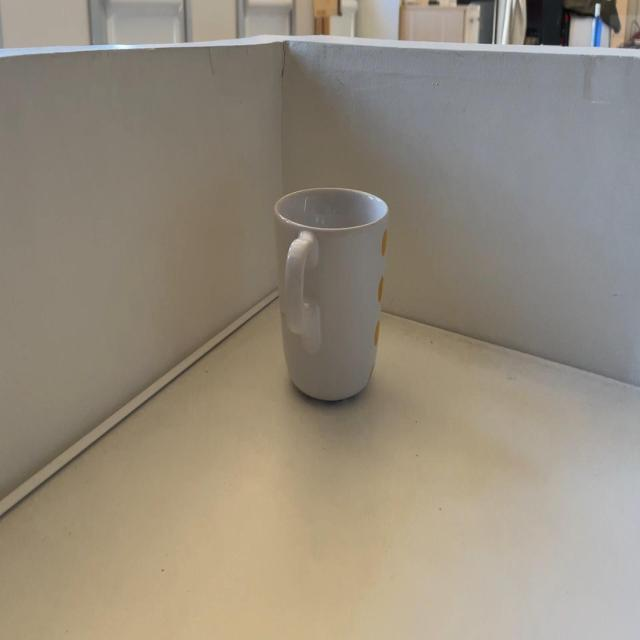cup: (277, 187, 389, 401)
